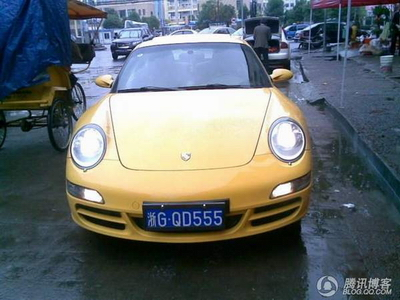plate_number: (140, 203, 227, 230)
